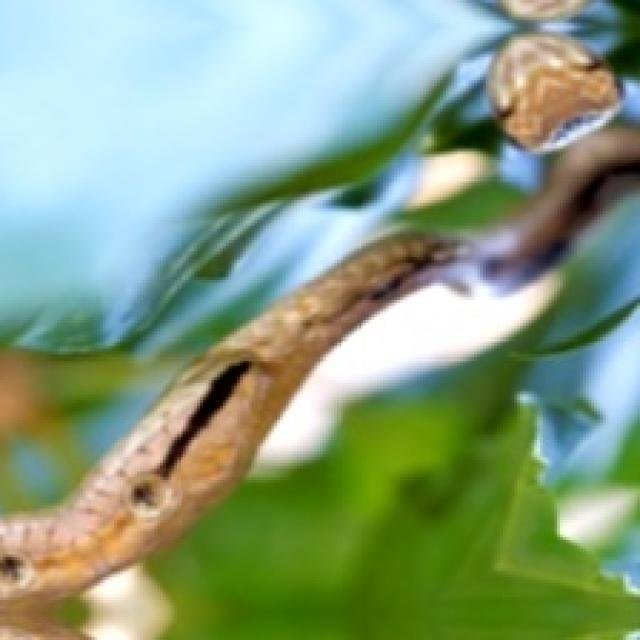dog-toothed cat snake: (0, 126, 637, 637)
